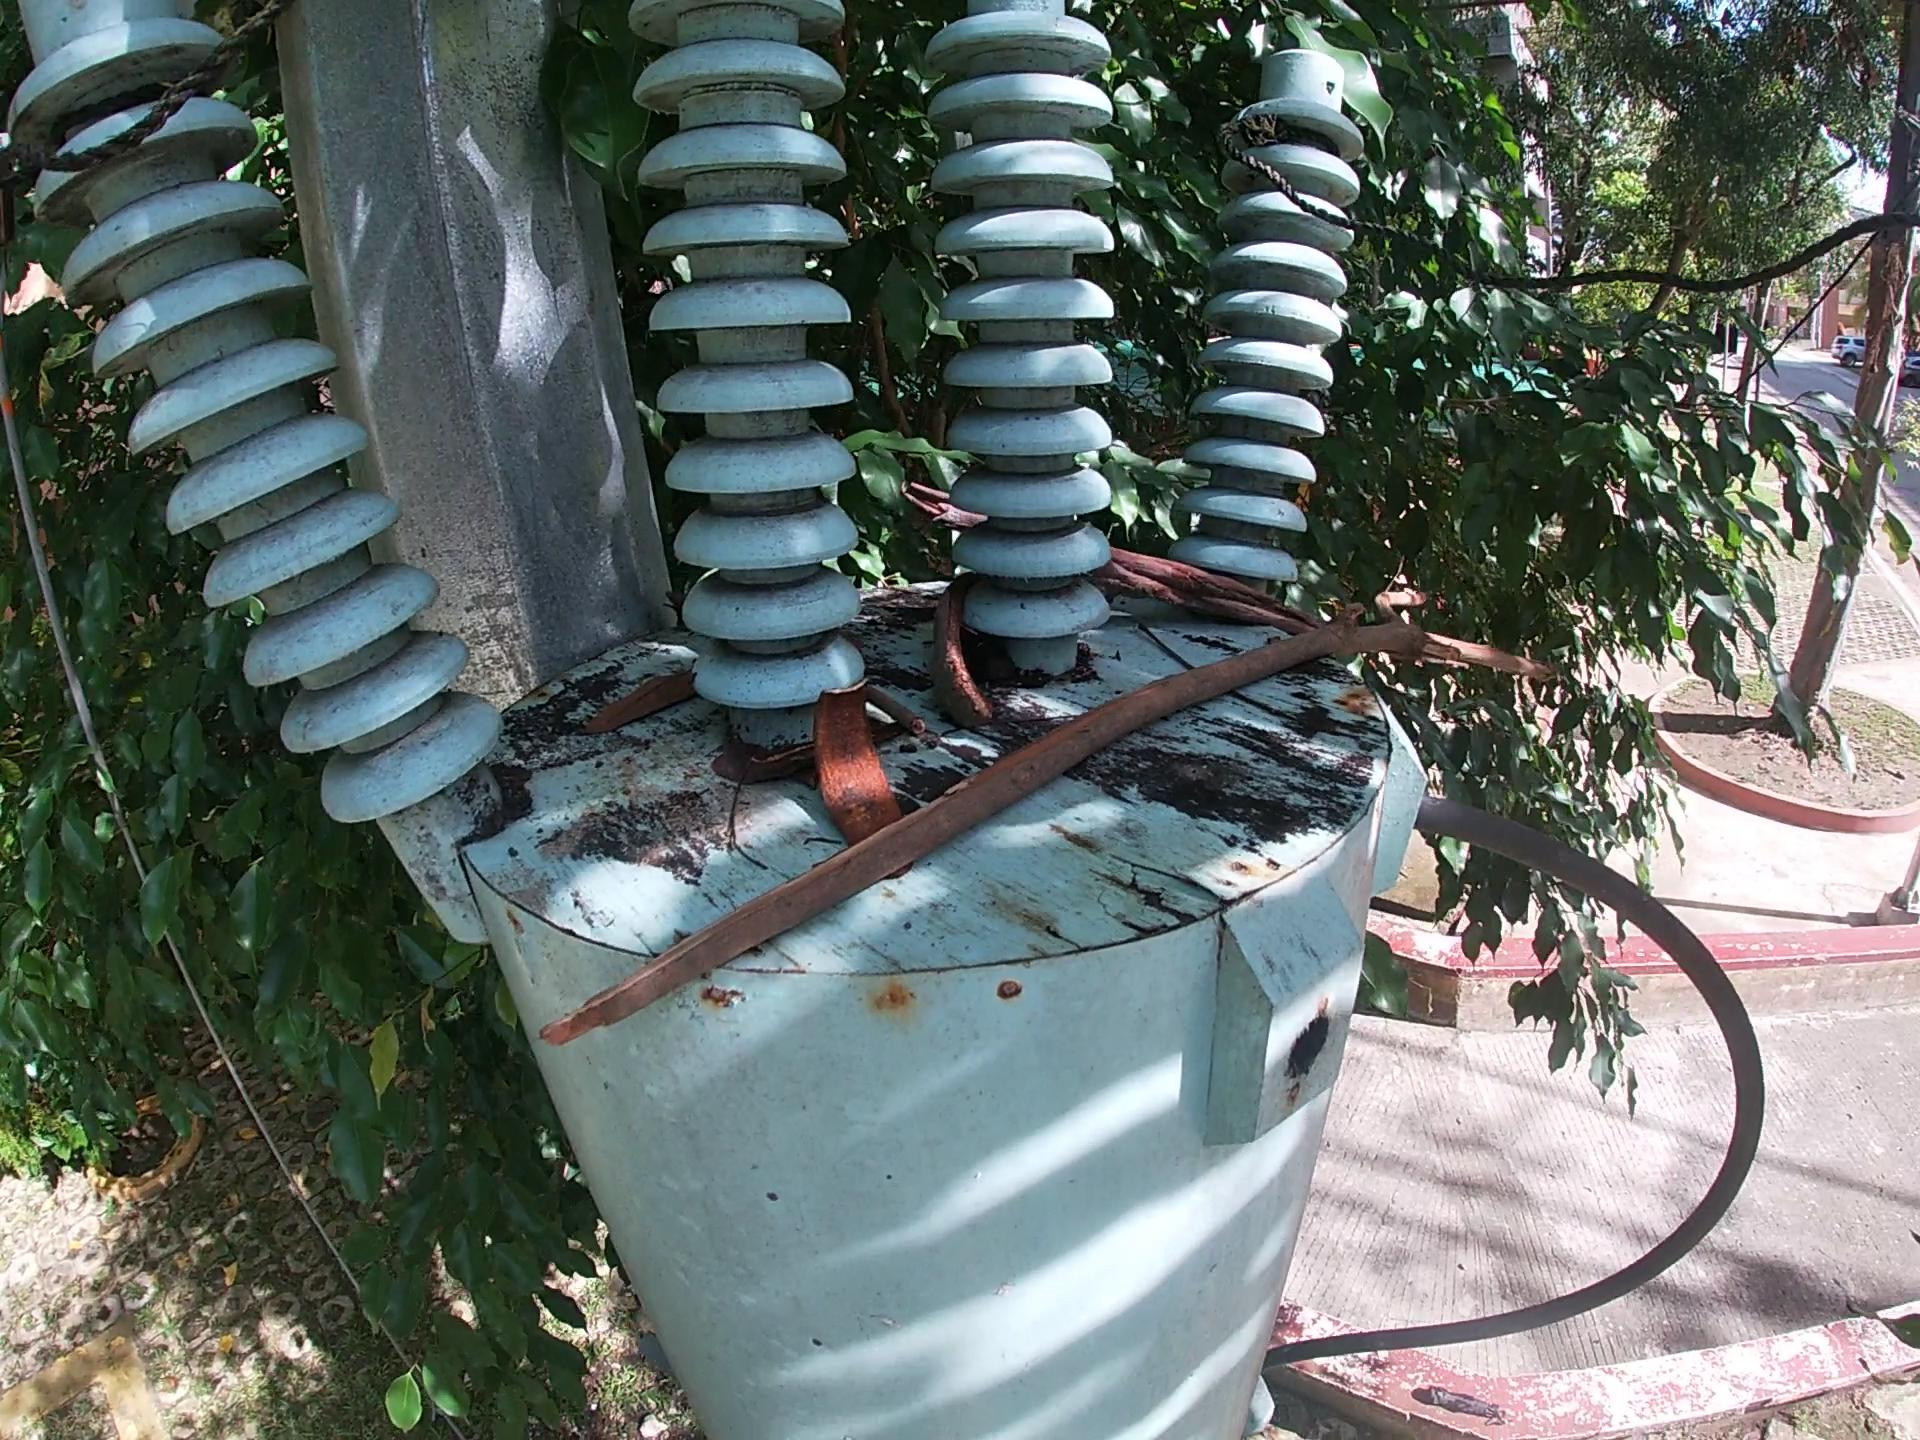leaf: (582, 666, 705, 744)
mahogany fruit: (804, 679, 909, 853), (922, 570, 1002, 731)
tree branch: (520, 570, 1577, 1063), (897, 475, 1317, 635), (865, 685, 931, 747)
